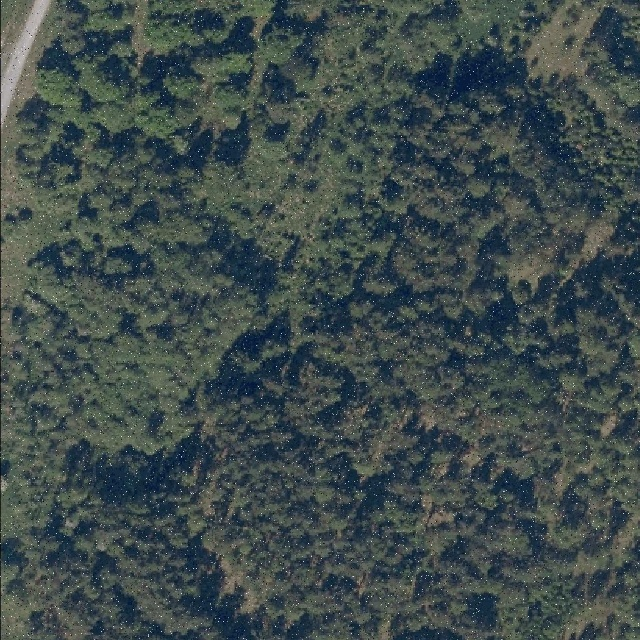vegetation: (0, 0, 640, 640)
